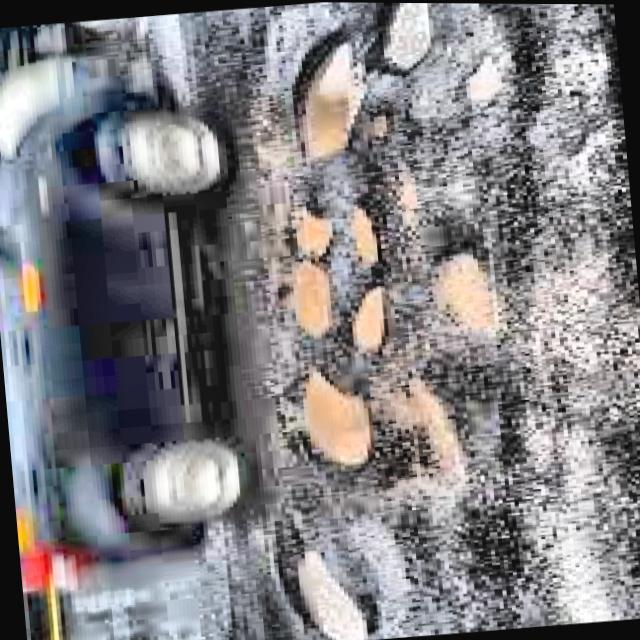pothole: (267, 2, 427, 155), (281, 209, 413, 346), (263, 531, 368, 640), (275, 371, 371, 467), (433, 254, 491, 328), (353, 209, 374, 262)
